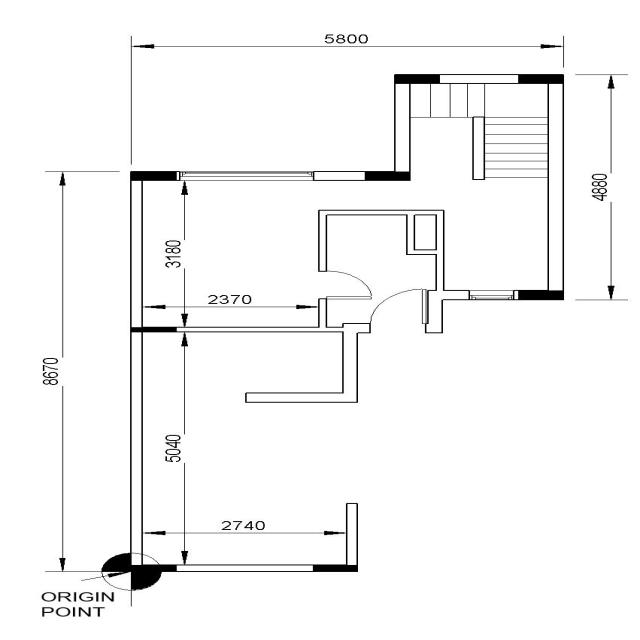Column: (130, 171, 177, 181), (518, 74, 564, 84), (518, 290, 564, 300), (364, 171, 410, 181), (394, 74, 440, 84), (131, 564, 177, 572), (313, 564, 358, 572), (130, 327, 177, 332)
Door: (369, 289, 426, 333), (318, 271, 371, 299)
Staircase: (410, 84, 548, 180)
Window: (180, 171, 314, 181), (469, 290, 514, 300)
